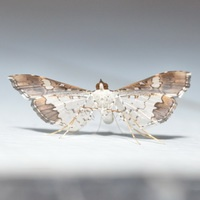insect: (8, 71, 190, 143)
